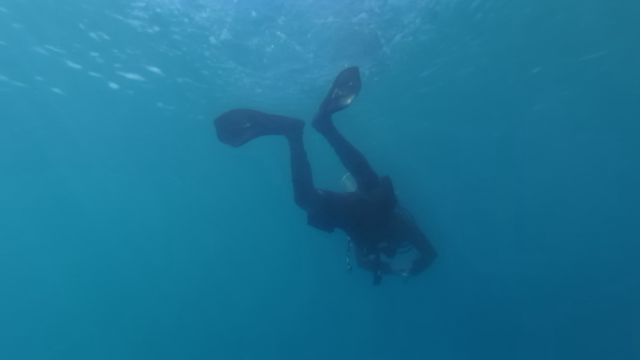Diver: (194, 68, 476, 290)
Hand: (388, 260, 408, 281), (401, 261, 417, 280)
